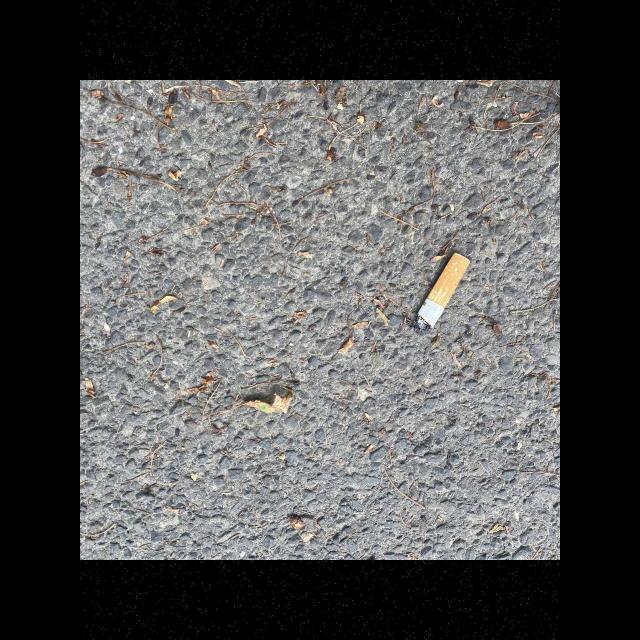cigarette: (416, 252, 470, 330)
